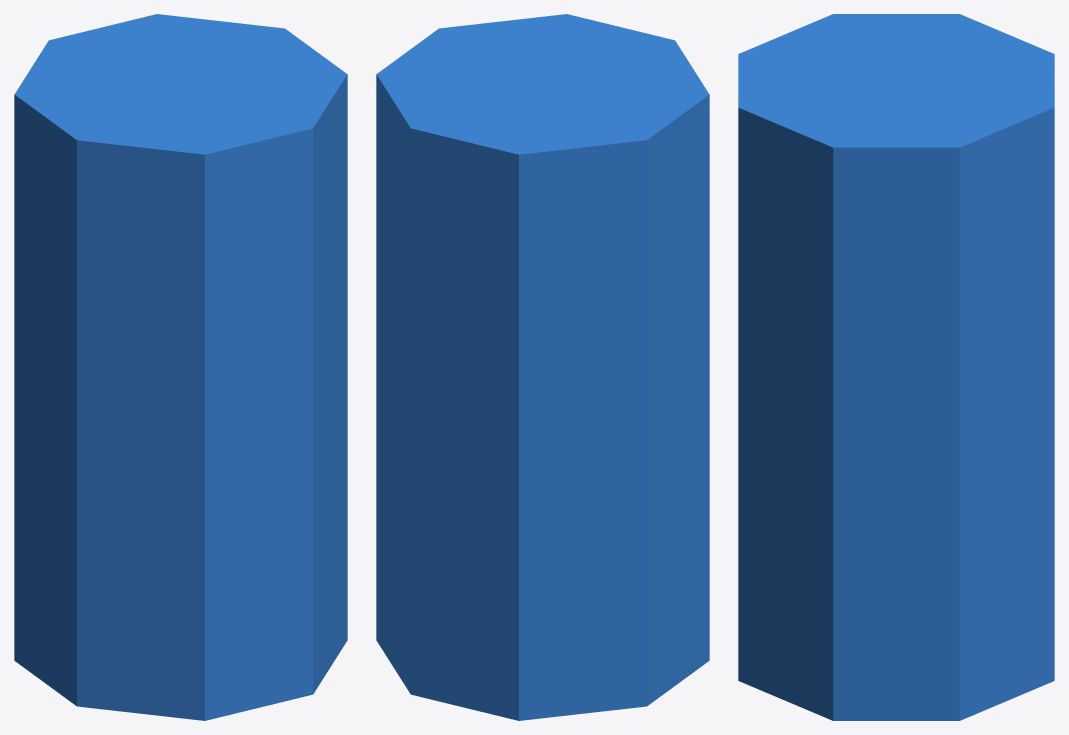
File: arm2.FBX
The picture shows the model from 3 angles, left to right: view 1: azimuth 30°, elevation 25°; view 2: azimuth 150°, elevation 25°; view 3: azimuth 270°, elevation 25°; orthographic projection.
Parts seen in each view (by area): view 1: VIFS001; view 2: VIFS001; view 3: VIFS001.
Part boxes in pixels (x1,y1,x2,y2): VIFS001: (14, 14, 347, 720); VIFS001: (376, 14, 709, 720); VIFS001: (738, 14, 1054, 720).
Bounding box in the file's own units: 0.2 × 0.4 × 0.2.
